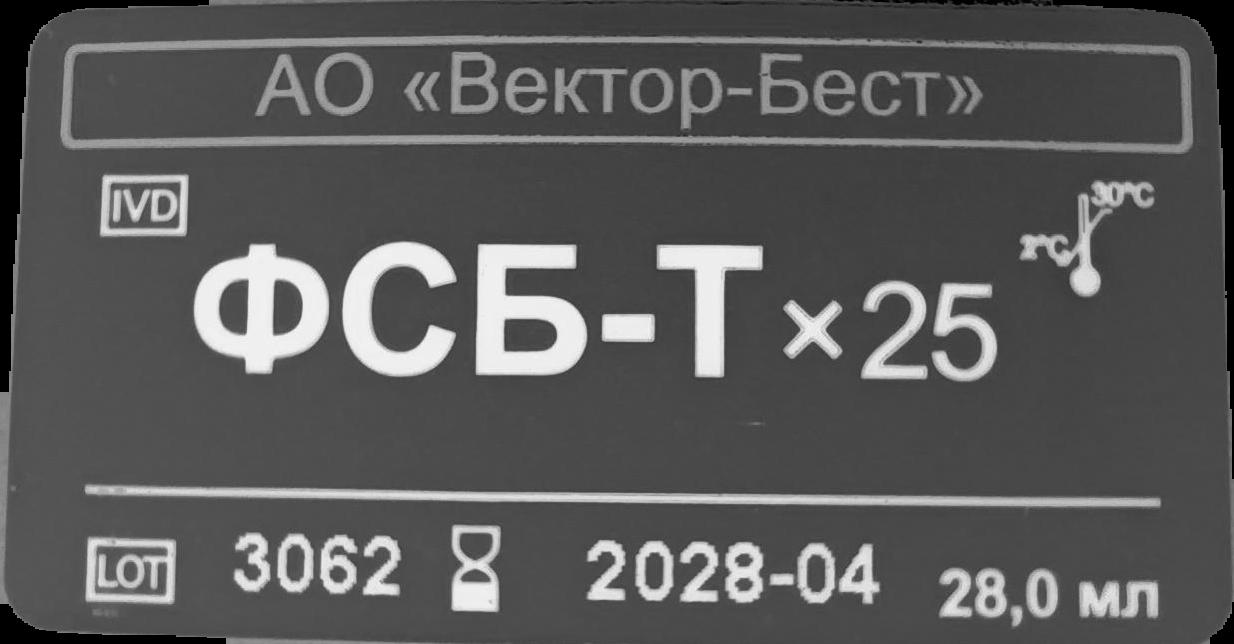something: (1016, 179, 1163, 301), (90, 164, 191, 242), (81, 530, 177, 609), (446, 523, 503, 618)
text: (189, 234, 1004, 389), (255, 43, 981, 145), (580, 533, 888, 613), (935, 562, 1171, 627), (227, 528, 402, 607)
